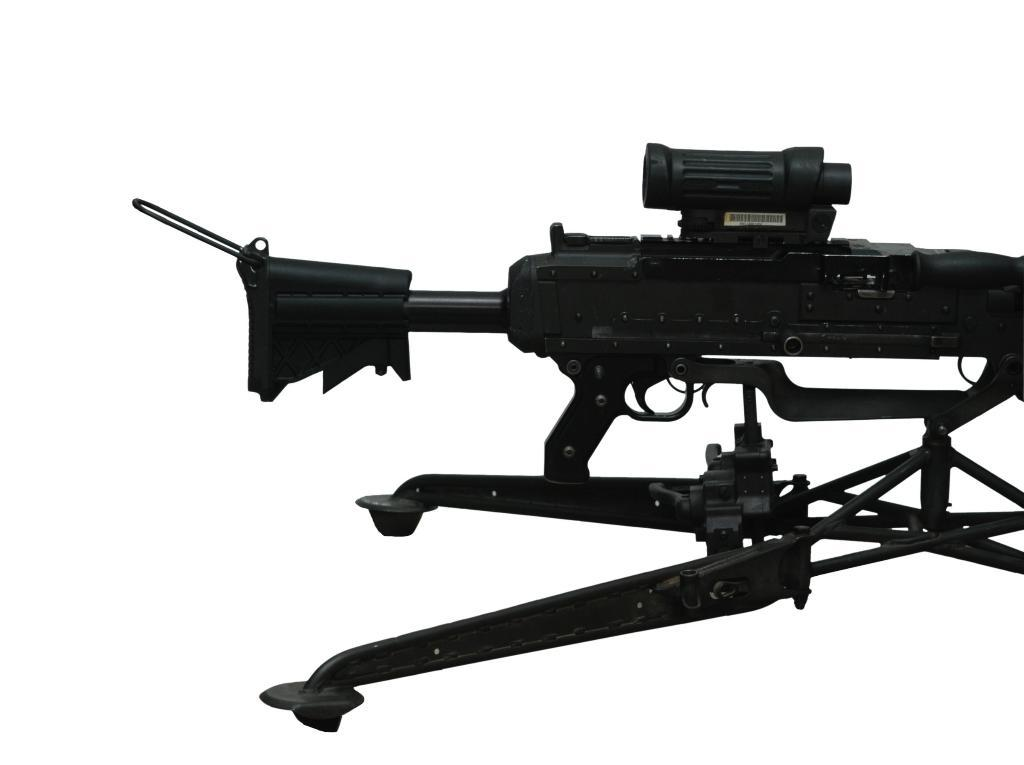Rifle: (133, 142, 1023, 733)
